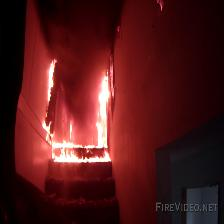fire: (45, 43, 123, 175)
